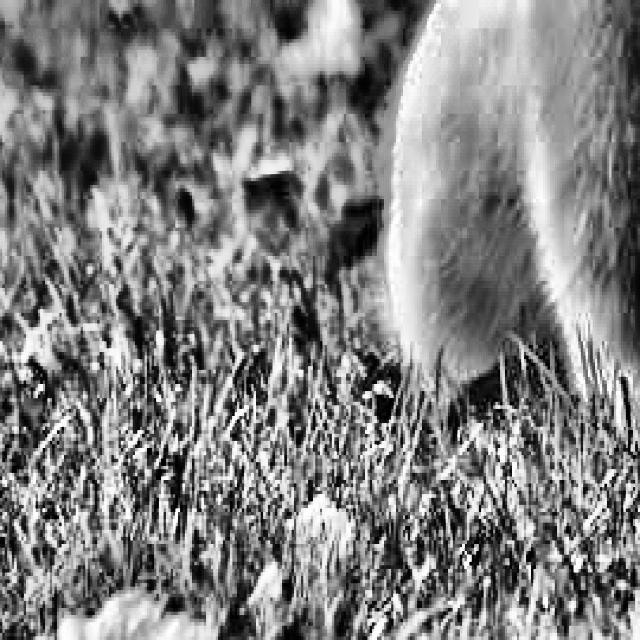rabbit: (348, 0, 640, 459)
